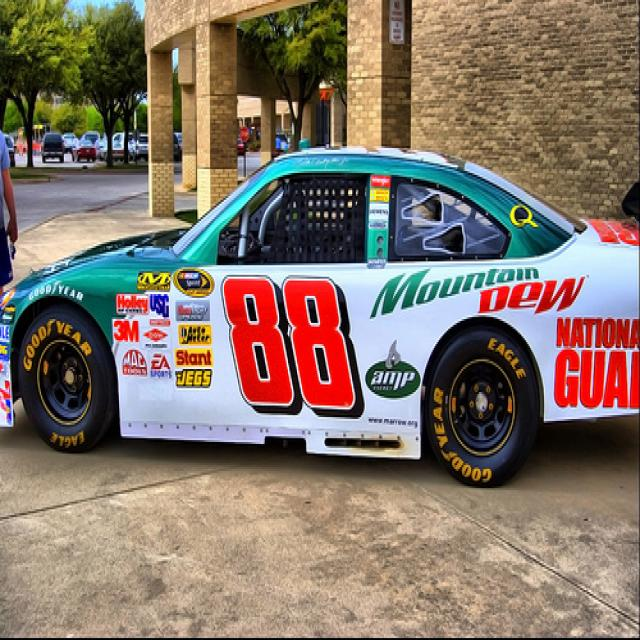Car: (0, 140, 638, 492)
